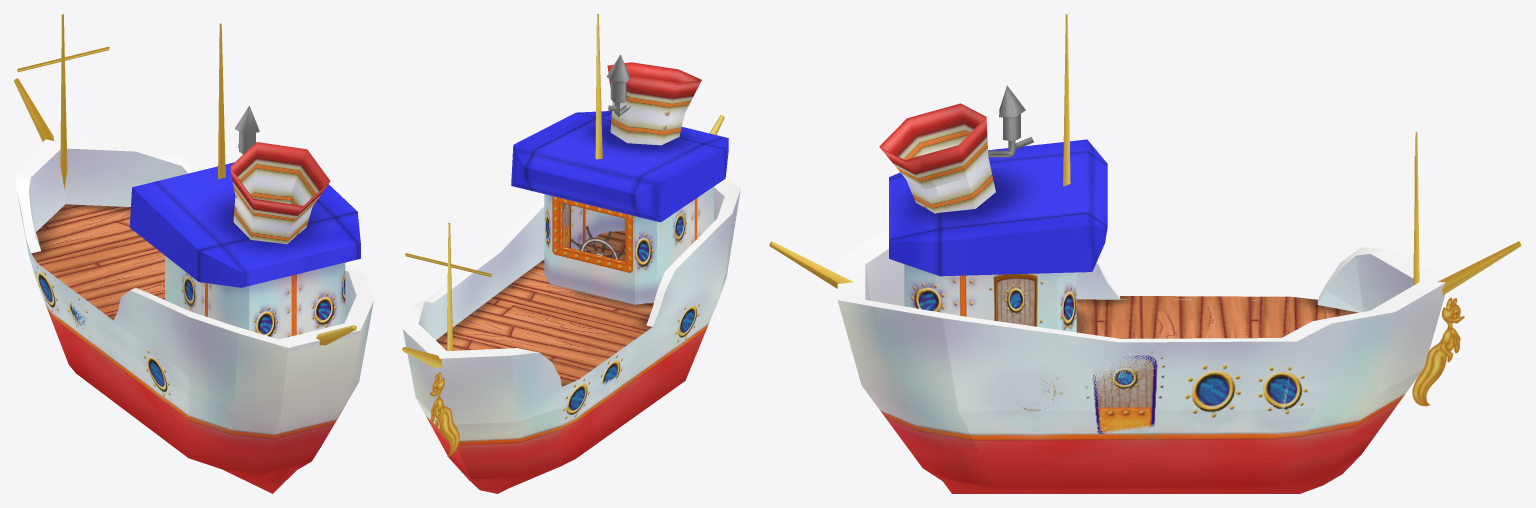
File: DonaldsBoat.glb
3 renders of one model, left to right at view 1: azimuth 30°, elevation 25°; view 2: azimuth 150°, elevation 25°; view 3: azimuth 270°, elevation 25°, orthographic. The views are drawn at different scales.
Visible parts, largest first — view 1: above_water, wheel_house_roof, o3, ground, wheel_house_walls_exterior, below_water, wheel_house_steam_pipe, decal_base11, decal_base6, decals (×2), roof_pole, boat_whistle (+1 smaller); view 2: wheel_house_roof, ground, above_water, o3, below_water, wheel_house_steam_pipe, wheel_house_walls_exterior, decal_base, wheel_house_front_wall, decal_base11, decal_base6, wheel_house_interior (+8 smaller); view 3: above_water, wheel_house_roof, below_water, decal_base3, o3, decal_base8, ground, wheel_house_steam_pipe, decal_base4, wheel_house_walls_exterior, decals (×2), decal_base1 (+4 smaller).
Boxes of the visible parts, x1,y1,x2,y2 form: above_water: (14, 14, 373, 446); wheel_house_roof: (129, 162, 360, 287); o3: (14, 137, 373, 347); ground: (31, 204, 164, 320); wheel_house_walls_exterior: (165, 256, 345, 339); below_water: (53, 284, 338, 493); wheel_house_steam_pipe: (230, 142, 330, 243); decal_base11: (51, 296, 188, 428); decal_base6: (38, 264, 187, 396); decals (×2): (40, 271, 170, 396); roof_pole: (218, 23, 225, 179); boat_whistle: (234, 105, 259, 154); wheel_house_roof: (511, 111, 728, 222); ground: (436, 230, 653, 386); above_water: (402, 115, 740, 456); o3: (403, 176, 740, 358); below_water: (433, 326, 701, 493); wheel_house_steam_pipe: (607, 62, 701, 145); wheel_house_walls_exterior: (544, 187, 713, 304); decal_base: (435, 355, 515, 424); wheel_house_front_wall: (550, 195, 634, 304); decal_base11: (576, 299, 718, 429); decal_base6: (578, 299, 718, 392); wheel_house_interior: (562, 203, 625, 249); above_water: (769, 132, 1521, 451); wheel_house_roof: (889, 139, 1107, 276); below_water: (893, 413, 1391, 493); decal_base3: (959, 341, 1296, 411); o3: (837, 232, 1444, 342); decal_base8: (958, 409, 1283, 451); ground: (1076, 296, 1358, 338); wheel_house_steam_pipe: (879, 103, 995, 213); decal_base4: (942, 318, 1119, 410); wheel_house_walls_exterior: (904, 264, 1076, 332); decals (×2): (1014, 350, 1291, 433); decal_base1: (1375, 283, 1445, 395).
Size of the model in its own units: 0.1139 by 0.2671 by 0.3802.
19 materials, 18 textured.
